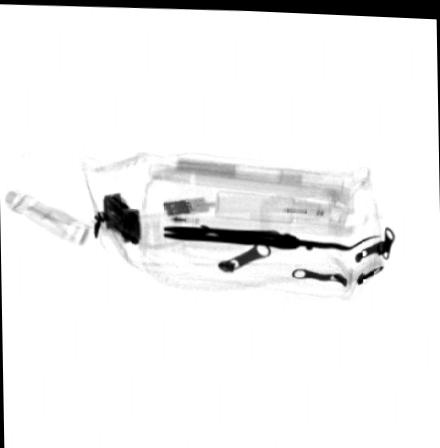Knife: (160, 223, 386, 249)
